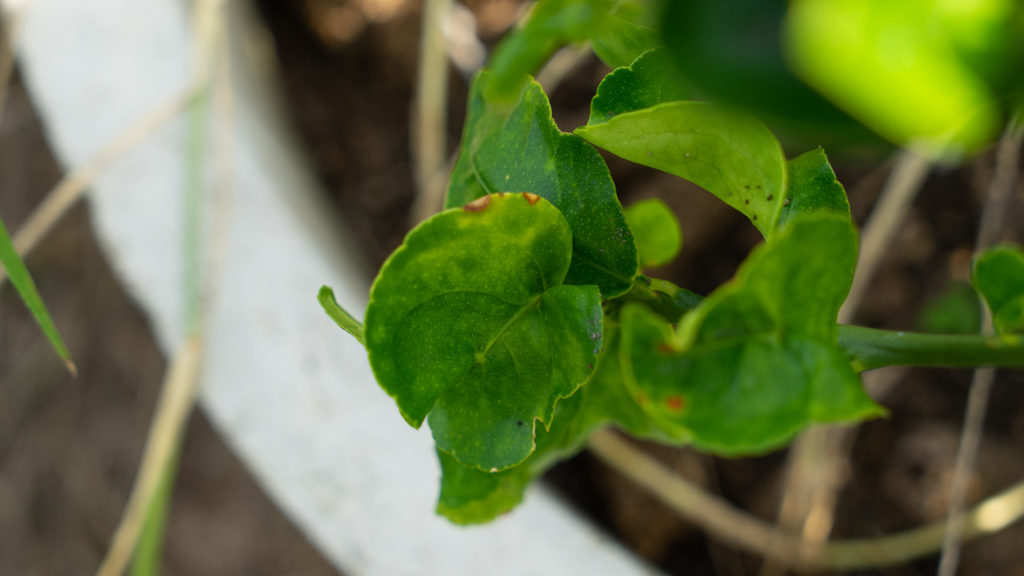Canker: (460, 184, 503, 226), (656, 382, 696, 415), (517, 180, 543, 213)
